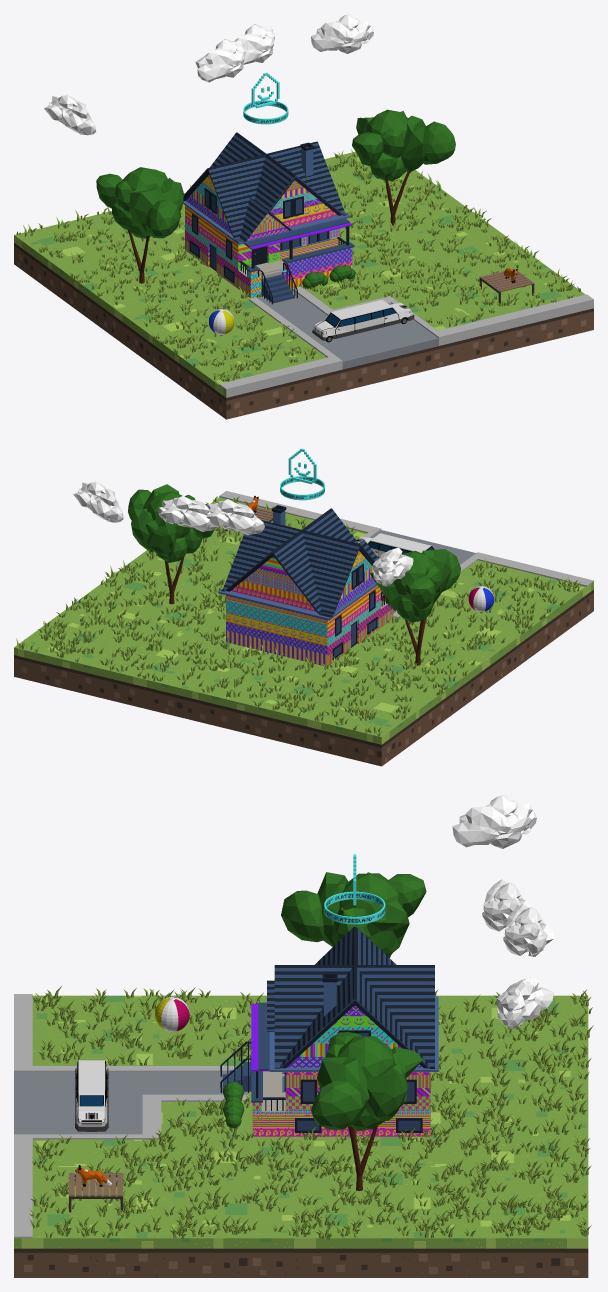
The picture shows the model from 3 angles, top to bottom: view 1: azimuth 30°, elevation 25°; view 2: azimuth 150°, elevation 25°; view 3: azimuth 270°, elevation 25°; orthographic projection. The views are drawn at different scales.
Visible parts, largest first — view 1: Cube.006, Cube.676, Circle.012_Grass_0.192, Cube.007, tree, tree.001, VEHICLES_LIMOUSINE, TYPE_PREMIUM, Cube.009, OBJRANDOM_BEACHBALL; view 2: Cube.006, Cube.676, Circle.012_Grass_0.192, Cube.007, tree.001, tree, TYPE_PREMIUM, VEHICLES_LIMOUSINE, OBJRANDOM_BEACHBALL; view 3: Cube.006, Circle.012_Grass_0.192, Cube.676, tree, Cube.007, tree.001, VEHICLES_LIMOUSINE, Cube.009, TYPE_PREMIUM, OBJRANDOM_BEACHBALL.
Boxes of the visible parts, x1,y1,x2,y2 form: Cube.006: (14,151,593,419); Cube.676: (183,132,354,304); Circle.012_Grass_0.192: (16,149,580,381); Cube.007: (44,14,373,135); tree: (352,109,455,225); tree.001: (96,167,184,283); VEHICLES_LIMOUSINE: (312,299,414,342); TYPE_PREMIUM: (243,72,288,124); Cube.009: (479,268,534,303); OBJRANDOM_BEACHBALL: (209,309,234,334); Cube.006: (14,491,593,766); Cube.676: (218,505,393,666); Circle.012_Grass_0.192: (16,496,580,736); Cube.007: (73,481,413,586); tree.001: (370,549,460,665); tree: (128,484,214,604); TYPE_PREMIUM: (280,448,324,500); VEHICLES_LIMOUSINE: (356,533,434,558); OBJRANDOM_BEACHBALL: (468,586,494,611); Cube.006: (14,994,588,1277); Circle.012_Grass_0.192: (29,986,593,1239); Cube.676: (220,926,438,1136); tree: (311,1032,422,1190); Cube.007: (452,795,553,1029); tree.001: (281,872,426,957); VEHICLES_LIMOUSINE: (75,1060,108,1131); Cube.009: (69,1172,122,1212); TYPE_PREMIUM: (324,854,385,924); OBJRANDOM_BEACHBALL: (155,997,189,1031).
Bounding box in the file's own units: 4071 × 2278 × 4040.
Materials: 42 (8 with a texture image).
